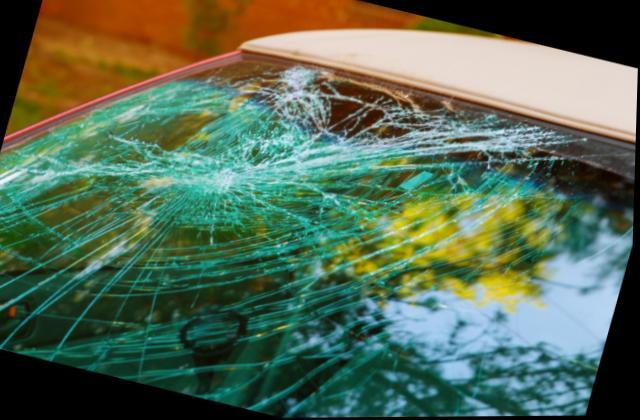glass shatter: (0, 53, 637, 418)
